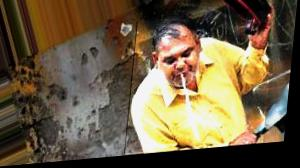spitting: (126, 14, 276, 157)
